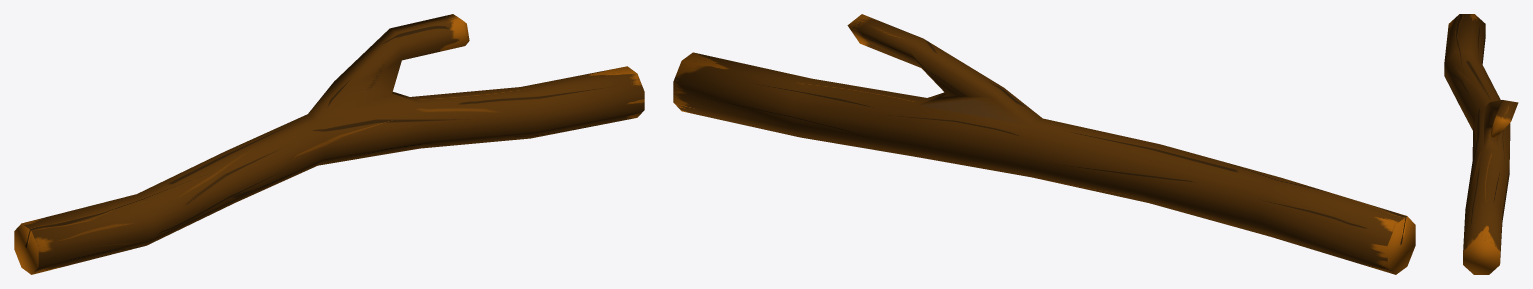
File: Stick3.fbx
The picture shows the model from 3 angles, left to right: view 1: azimuth 30°, elevation 25°; view 2: azimuth 150°, elevation 25°; view 3: azimuth 270°, elevation 25°; orthographic projection. The views are drawn at different scales.
Visible parts, largest first — view 1: Stick3; view 2: Stick3; view 3: Stick3.
Boxes of the visible parts, bbox=[...] form: Stick3: bbox=[14, 14, 644, 274]; Stick3: bbox=[673, 14, 1415, 274]; Stick3: bbox=[1444, 14, 1518, 274].
Size of the model in its own units: 155 by 30.67 by 21.34.
Materials: 1 (1 with a texture image).
